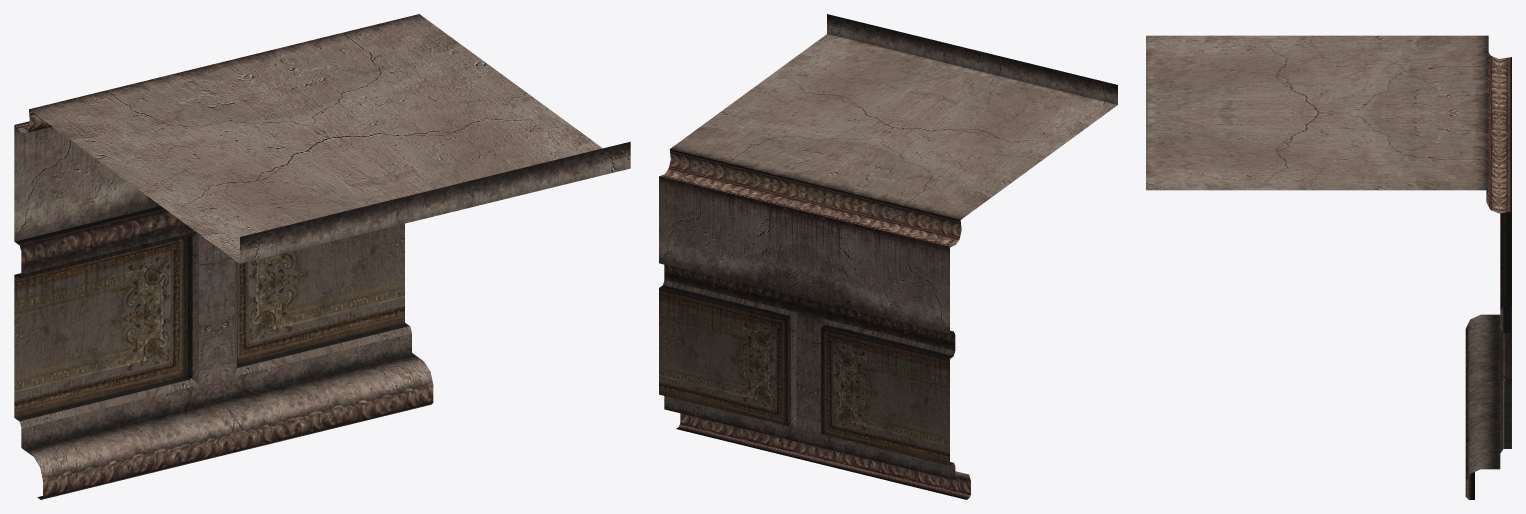
File: 42_concave_short.dae
The picture shows the model from 3 angles, left to right: view 1: azimuth 30°, elevation 25°; view 2: azimuth 150°, elevation 25°; view 3: azimuth 270°, elevation 25°; orthographic projection. The views are drawn at different scales.
Parts seen in each view (by area): view 1: concave_short; view 2: concave_short; view 3: concave_short.
Part boxes in pixels (<box>): concave_short: <box>14,14,630,499</box>; concave_short: <box>659,14,1117,499</box>; concave_short: <box>1146,35,1511,499</box>.
Bounding box in the file's own units: 2 × 2 × 2.
